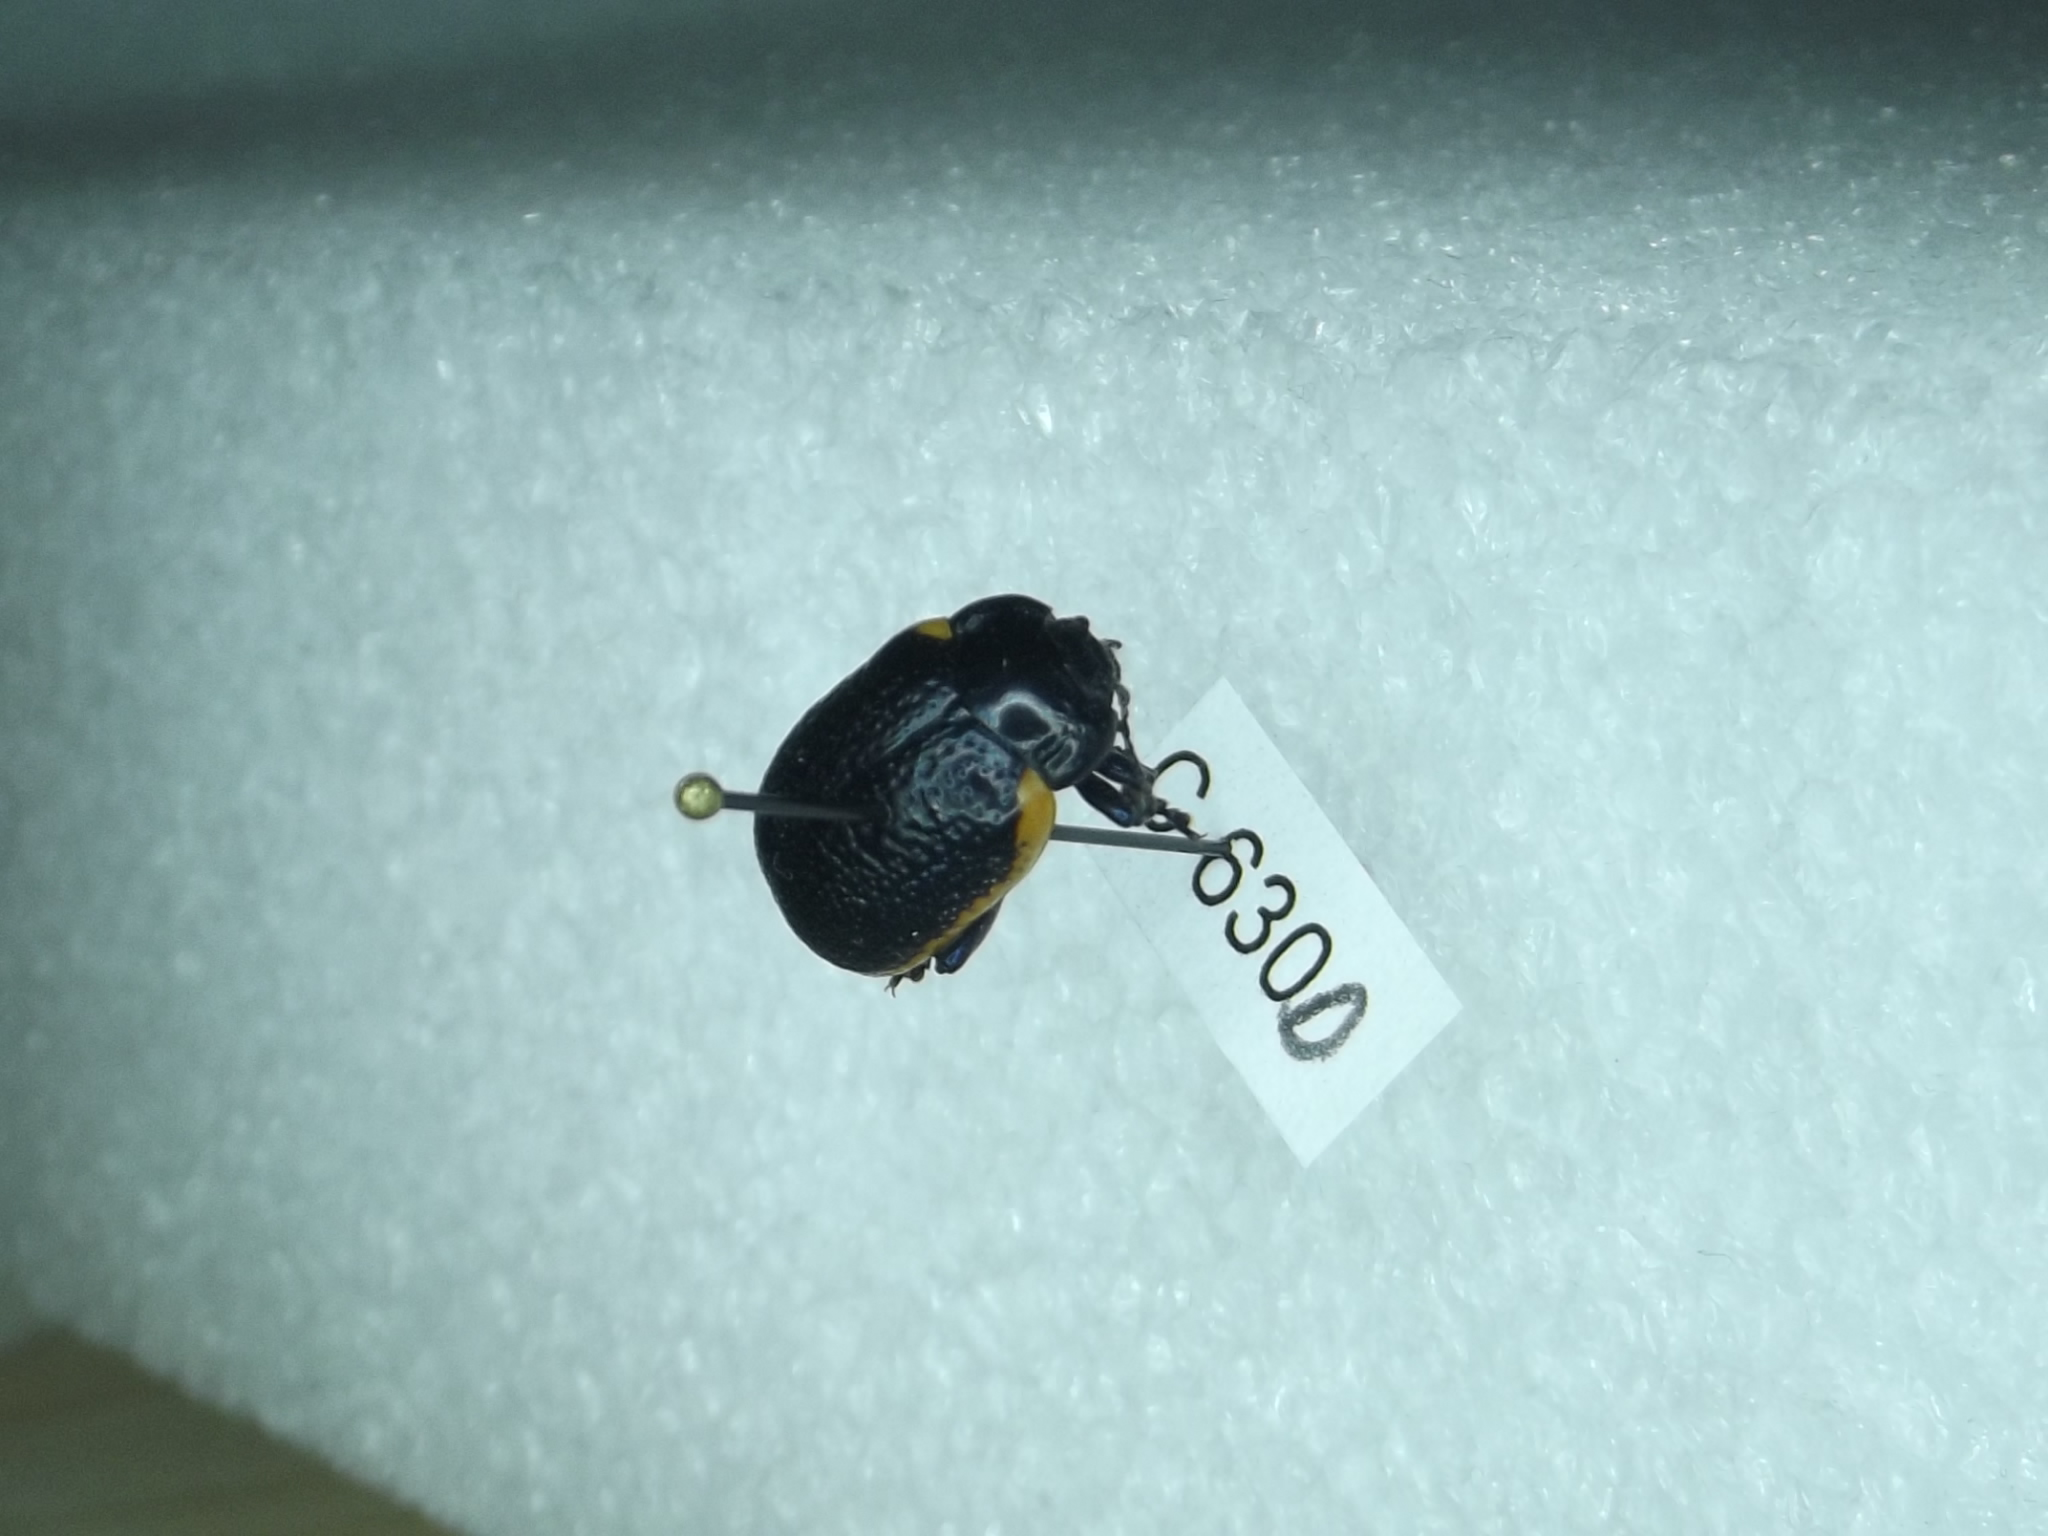Chrysolina_gypsophila: (750, 582, 1221, 994)
